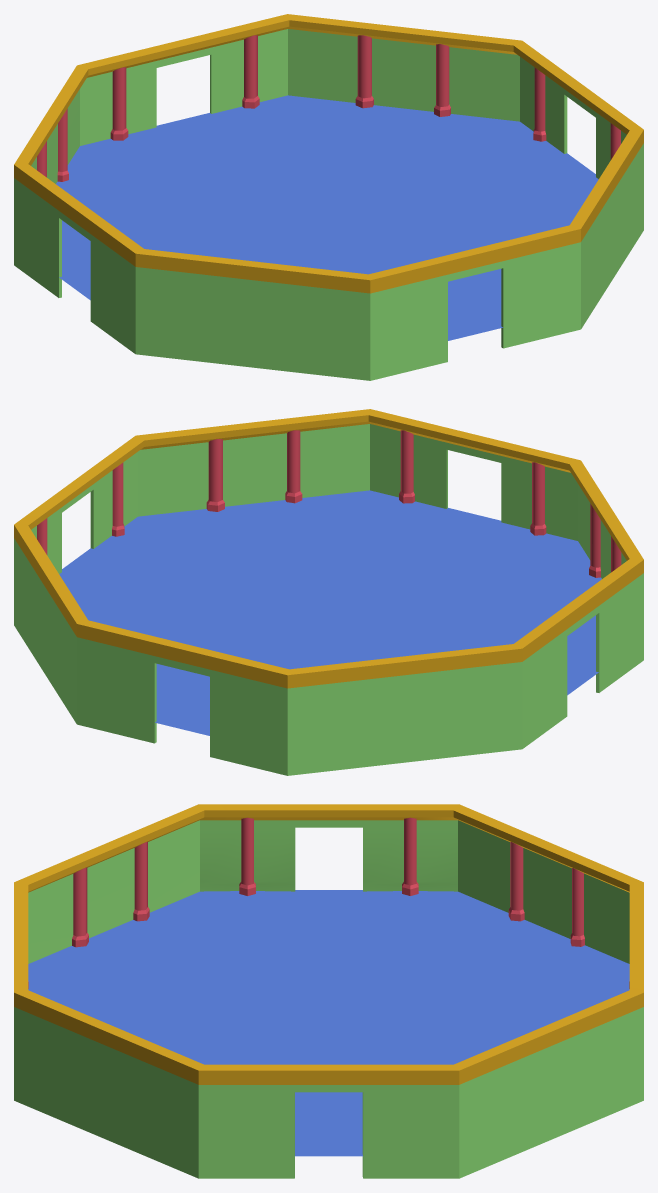
The model's file is SpawnRoom.fbx.
3 views of the same model, one above another, from view 1: azimuth 30°, elevation 25°; view 2: azimuth 150°, elevation 25°; view 3: azimuth 270°, elevation 25° (orthographic). The views are drawn at different scales.
Visible parts, largest first — view 1: Cylinder.002, Cylinder.001; view 2: Cylinder.002, Cylinder.001; view 3: Cylinder.002, Cylinder.001.
Part boxes in pixels (x1,y1,x2,y2): Cylinder.002: [14, 14, 643, 380]; Cylinder.001: [56, 95, 598, 340]; Cylinder.002: [14, 409, 643, 775]; Cylinder.001: [59, 490, 601, 735]; Cylinder.002: [14, 804, 643, 1178]; Cylinder.001: [28, 890, 629, 1156].
Bounding box in the file's own units: 3001 × 568 × 3001.
